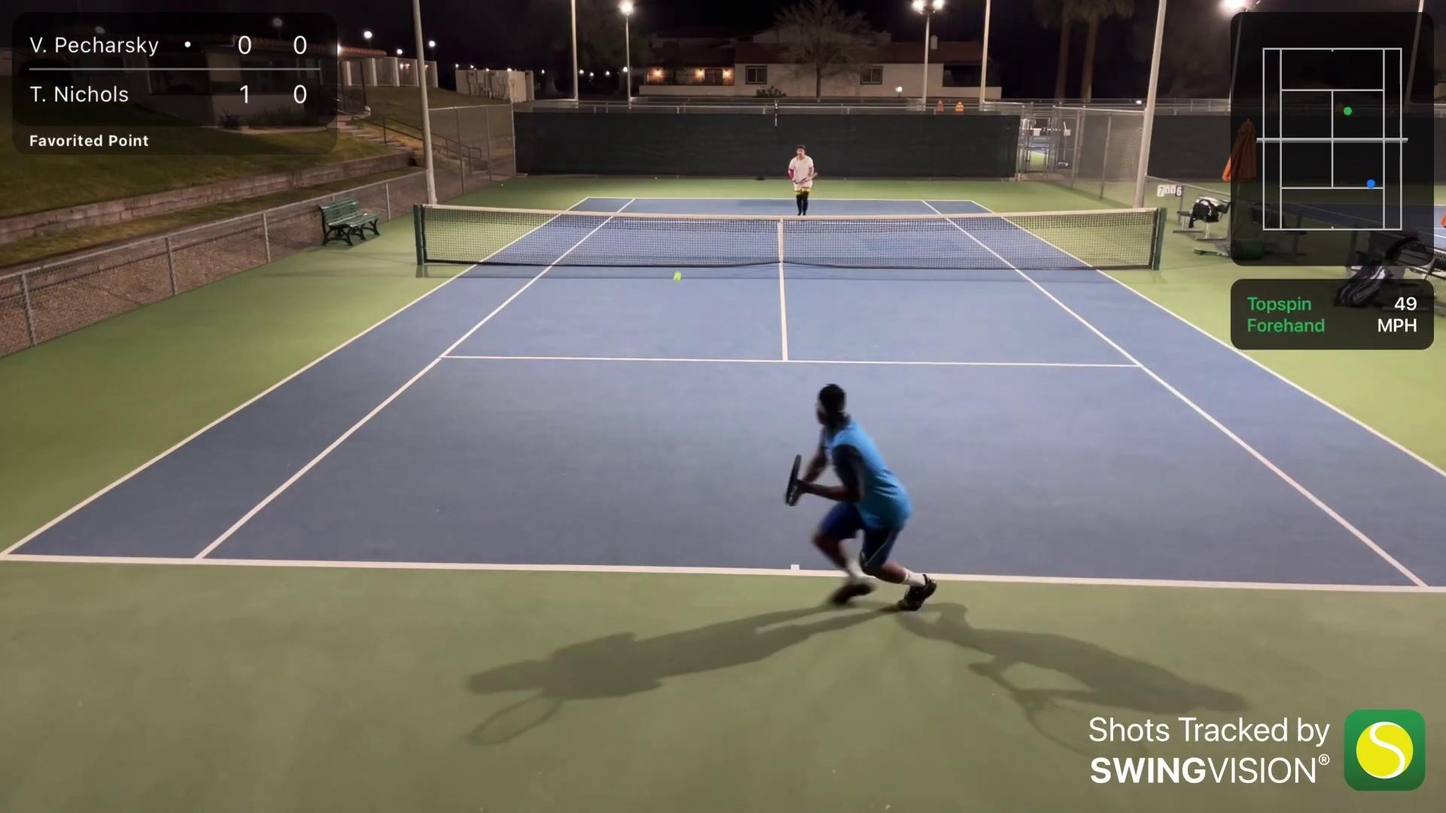ball: (672, 276, 679, 281)
